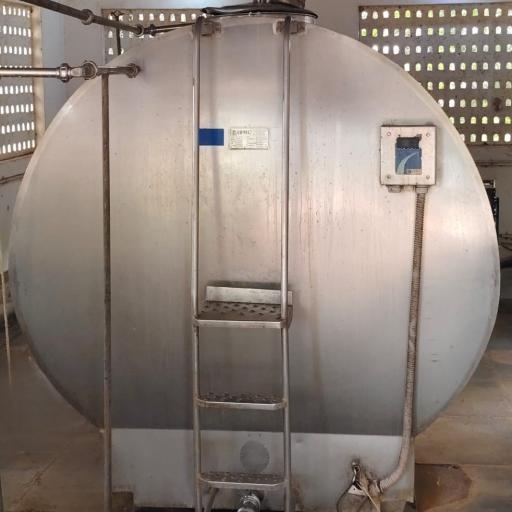silo: (4, 2, 503, 494)
